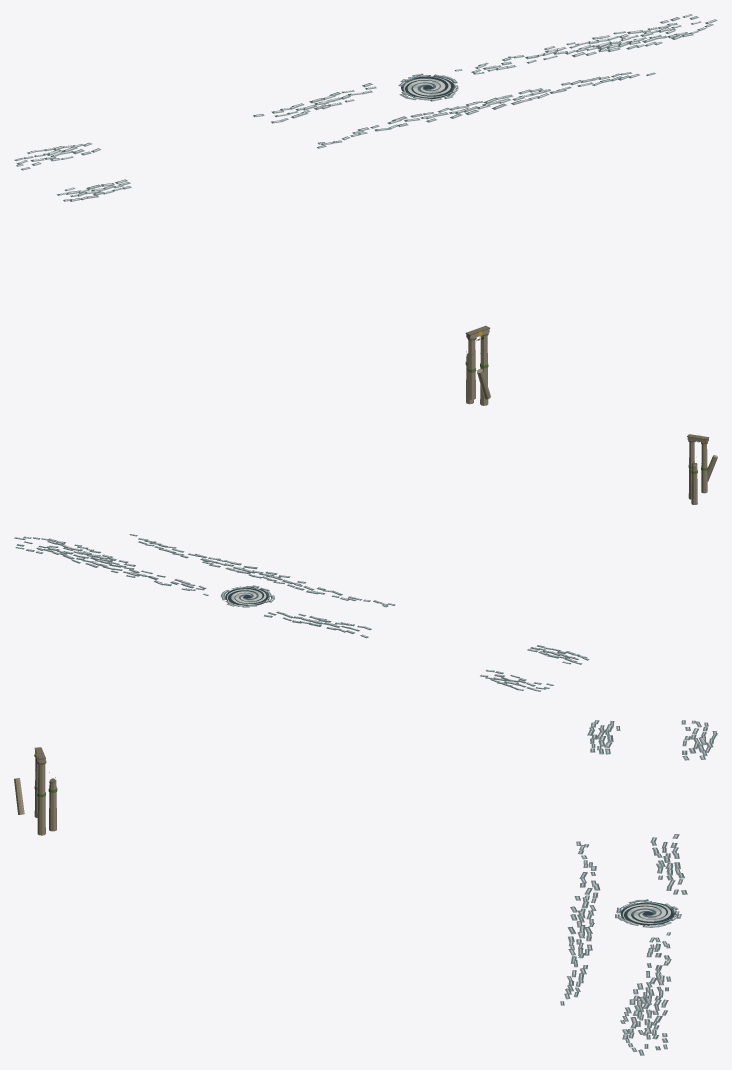
File: chunk_1_3.glb
3 renders of one model, top to bottom at view 1: azimuth 30°, elevation 25°; view 2: azimuth 150°, elevation 25°; view 3: azimuth 270°, elevation 25°, orthographic. The views are drawn at different scales.
Visible parts, largest first — view 1: chunk_1_3; view 2: chunk_1_3; view 3: chunk_1_3.
Part boxes in pixels (x1,y1,x2,y2): chunk_1_3: [14, 14, 717, 405]; chunk_1_3: [14, 434, 717, 691]; chunk_1_3: [14, 720, 717, 1055].
Bounding box in the file's own units: 136 × 14.92 × 120.
